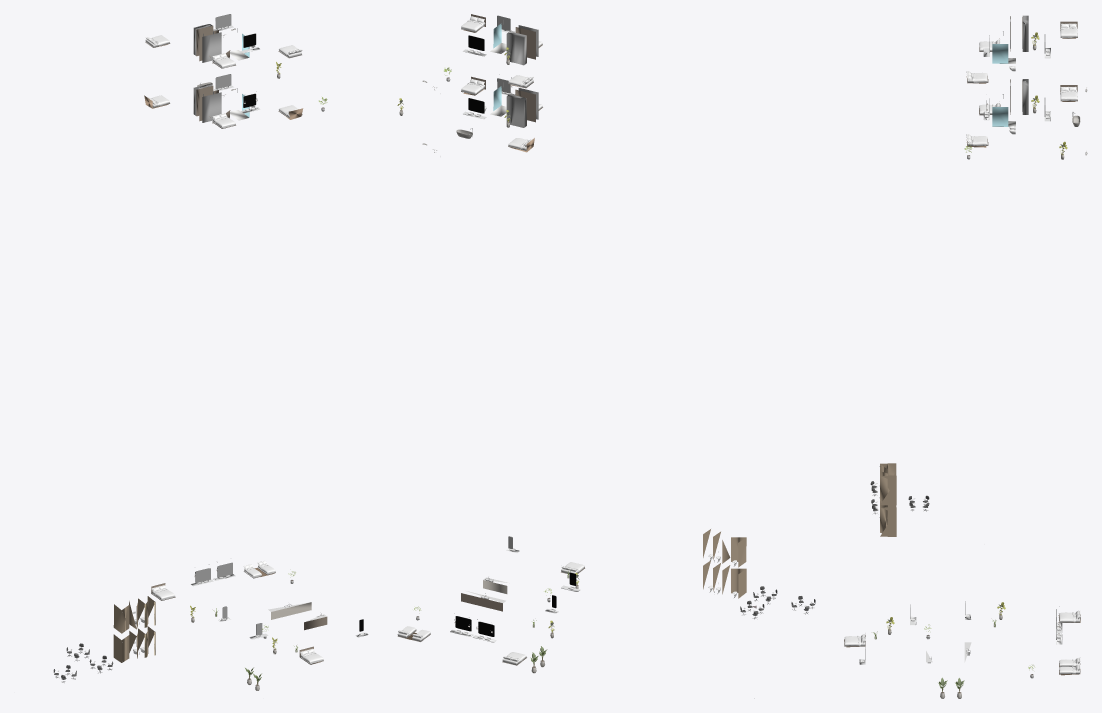
Rendered from muebles2.glb.
The picture shows the model from 3 angles, left to right: view 1: azimuth 30°, elevation 25°; view 2: azimuth 150°, elevation 25°; view 3: azimuth 270°, elevation 25°; orthographic projection. The views are drawn at different scales.
Bounding box in the file's own units: 35.89 × 70.23 × 23.1.
